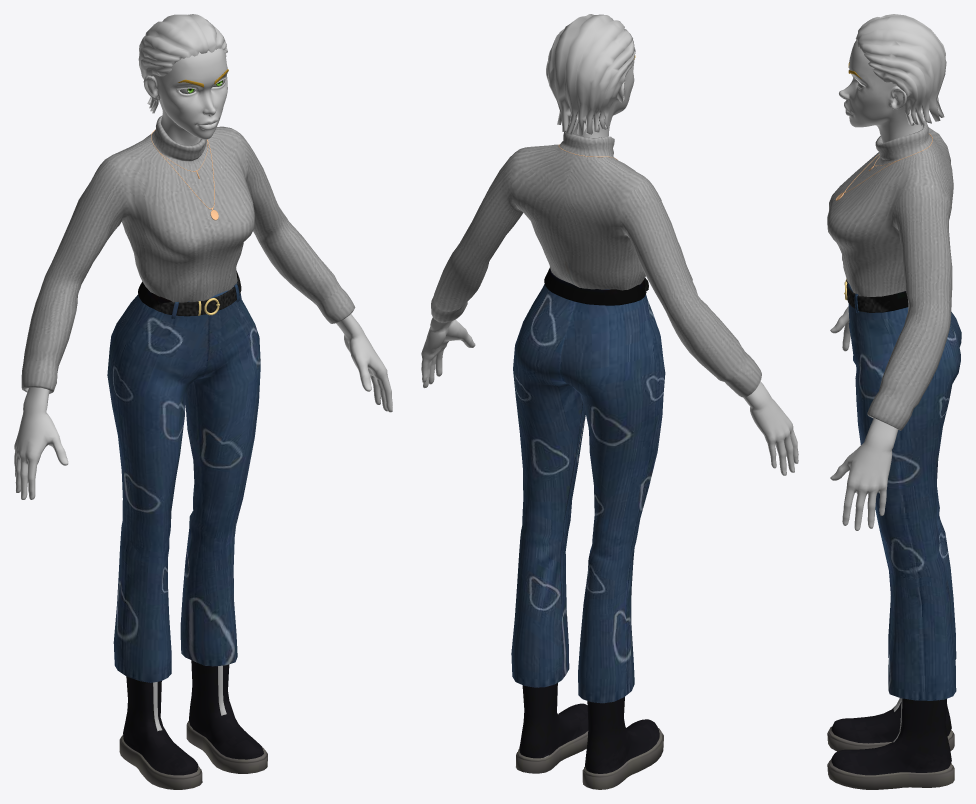
The model's file is W Character 19.fbx.
The picture shows the model from 3 angles, left to right: view 1: azimuth 30°, elevation 25°; view 2: azimuth 150°, elevation 25°; view 3: azimuth 270°, elevation 25°; orthographic projection.
Parts seen in each view (by area): view 1: Wolf3D_Outfit_Bottom.010, Wolf3D_Outfit_Top.008, Wolf3D_Outfit_Footwear.009, body.001, head, Wolf3D_Hair.007; view 2: Wolf3D_Outfit_Bottom.010, Wolf3D_Outfit_Top.008, Wolf3D_Outfit_Footwear.009, Wolf3D_Hair.007, body.001, head; view 3: Wolf3D_Outfit_Bottom.010, Wolf3D_Outfit_Top.008, Wolf3D_Outfit_Footwear.009, Wolf3D_Hair.007, body.001, head.
Part boxes in pixels (<box>): Wolf3D_Outfit_Bottom.010: <box>107,270,260,682</box>; Wolf3D_Outfit_Top.008: <box>21,115,355,393</box>; Wolf3D_Outfit_Footwear.009: <box>119,660,267,789</box>; body.001: <box>14,302,392,499</box>; head: <box>143,48,228,145</box>; Wolf3D_Hair.007: <box>138,14,227,113</box>; Wolf3D_Outfit_Bottom.010: <box>511,268,665,703</box>; Wolf3D_Outfit_Top.008: <box>431,132,761,397</box>; Wolf3D_Outfit_Footwear.009: <box>516,683,663,789</box>; Wolf3D_Hair.007: <box>546,14,635,135</box>; body.001: <box>421,306,798,475</box>; head: <box>554,55,635,137</box>; Wolf3D_Outfit_Bottom.010: <box>844,279,961,700</box>; Wolf3D_Outfit_Top.008: <box>827,121,953,430</box>; Wolf3D_Outfit_Footwear.009: <box>827,698,954,789</box>; Wolf3D_Hair.007: <box>855,14,946,125</box>; body.001: <box>830,306,898,530</box>; head: <box>839,40,923,142</box>.
Bounding box in the file's own units: 96.47 × 187 × 30.72.
